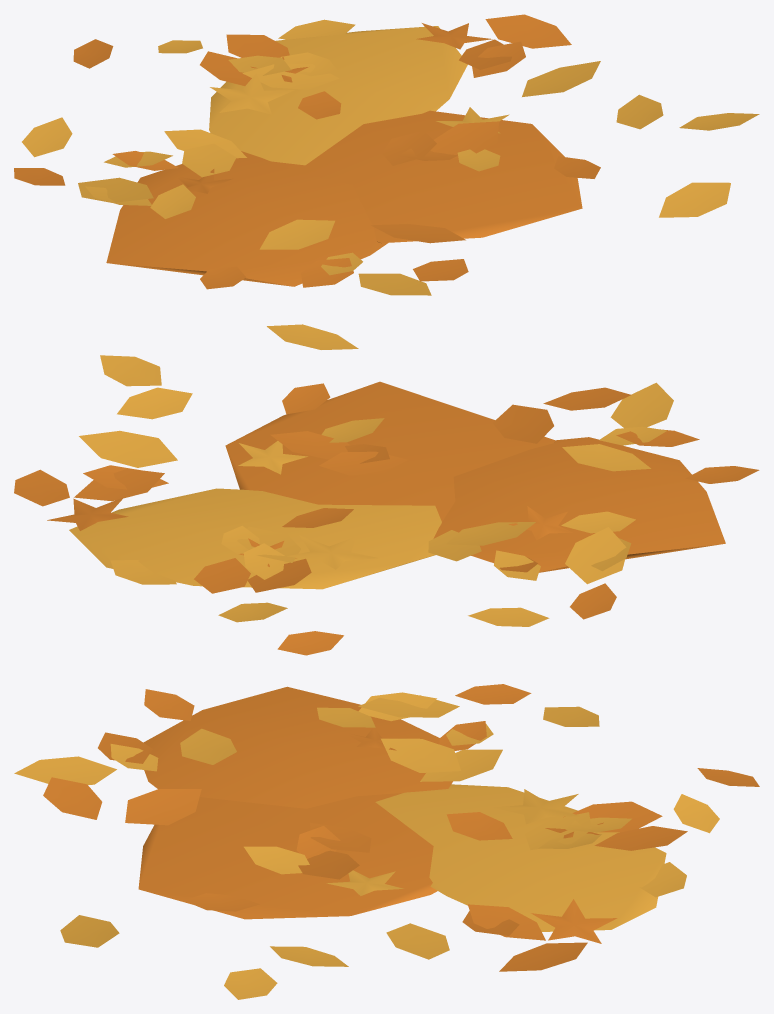
The model's file is leaf_patch_b.glb.
The picture shows the model from 3 angles, top to bottom: view 1: azimuth 30°, elevation 25°; view 2: azimuth 150°, elevation 25°; view 3: azimuth 270°, elevation 25°; orthographic projection. The views are drawn at different scales.
Visible parts, largest first — view 1: leaf_patch_b_base, leaf_patch_b_leaves; view 2: leaf_patch_b_base, leaf_patch_b_leaves; view 3: leaf_patch_b_base, leaf_patch_b_leaves.
Part boxes in pixels (box(x1,y1,x2,y2)): leaf_patch_b_base: box(106, 26, 582, 286); leaf_patch_b_leaves: box(14, 14, 759, 295); leaf_patch_b_base: box(69, 381, 725, 589); leaf_patch_b_leaves: box(14, 324, 759, 655); leaf_patch_b_base: box(138, 686, 666, 931); leaf_patch_b_leaves: box(14, 684, 759, 999).
Bounding box in the file's own units: 0.9818 × 0.0344 × 0.9495.
